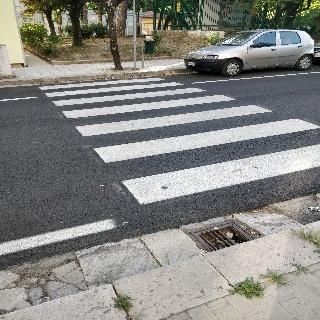road_crosswalk: (7, 88, 314, 217)
